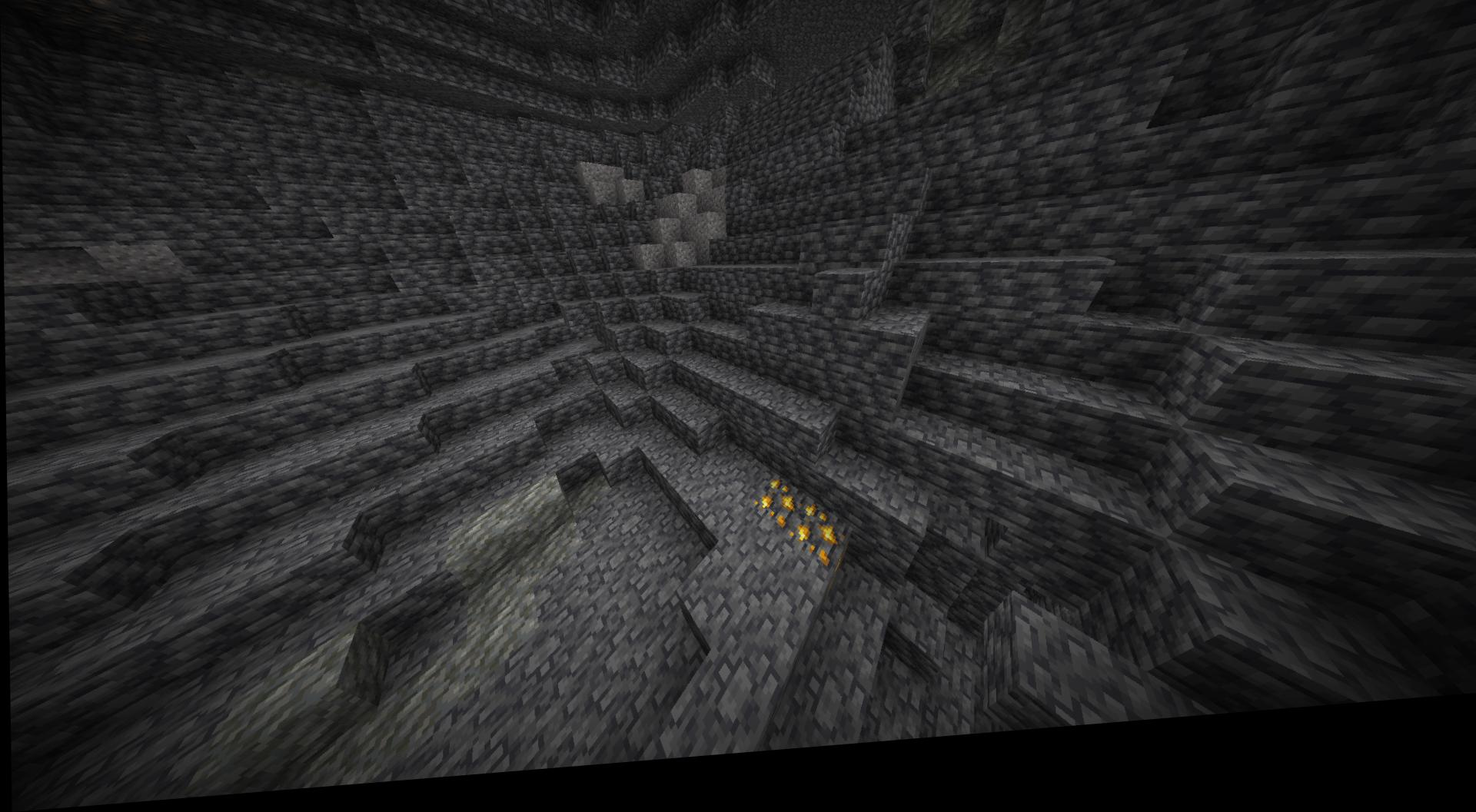gold ore: (788, 504, 846, 585), (750, 487, 800, 541)
